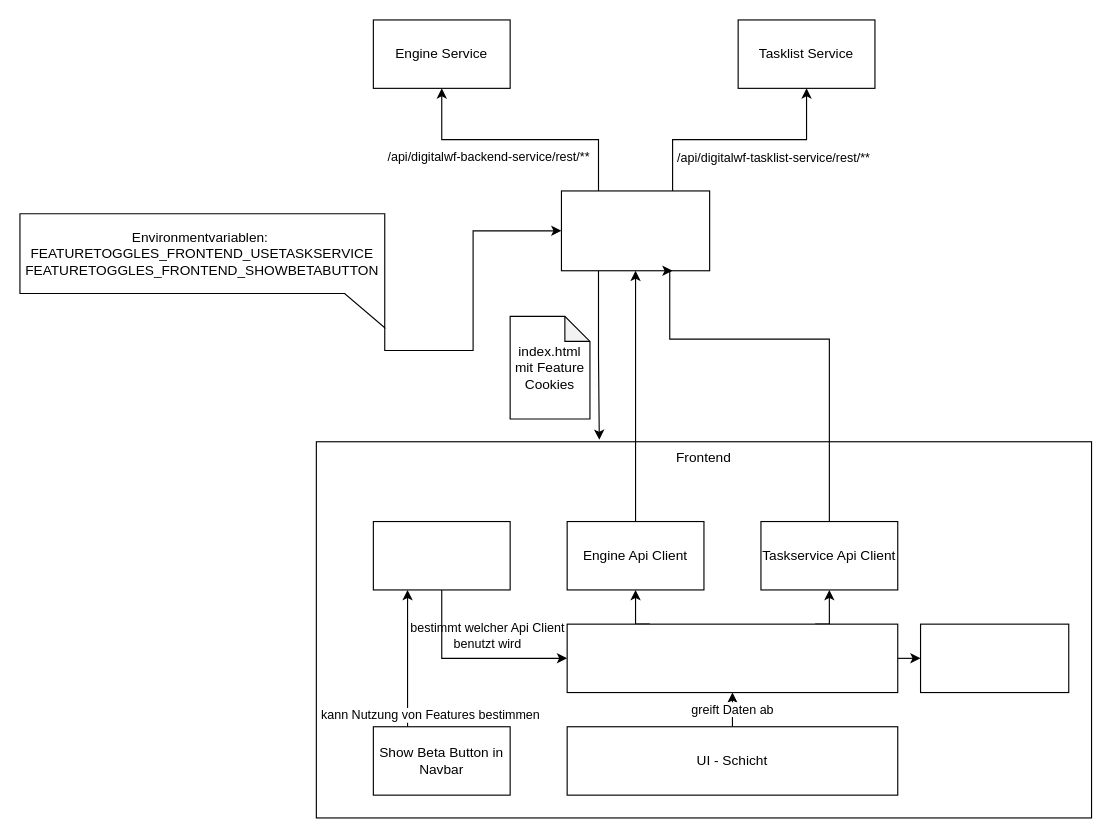
This 1112x838 diagram has some shape labels left out. The shapes that lost their labels are listed below. From the top down, each one's centre as x and y in pixels, then its label:
(635,230): Api Gatway hängt an alle Requests Cookies mit den Feature Toggles dran
(441,555): Feature Toggle Handler
(732,658): Task middleware stellt eigenes Modell Domain und beinhaltet alle Serverrequests
(994,658): Task Mapper mappt die jeweiligen Modelle
